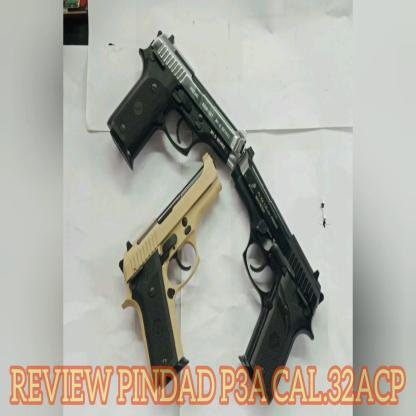handgun: (115, 146, 226, 364), (104, 14, 247, 172), (228, 144, 328, 364)
